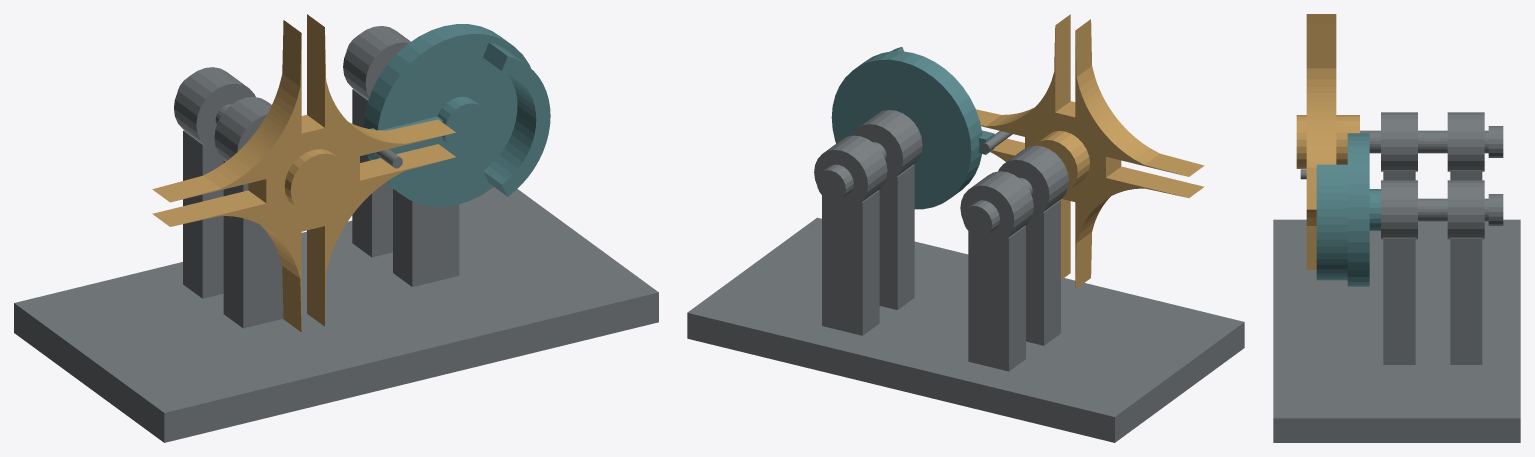
The picture shows the model from 3 angles, left to right: view 1: azimuth 30°, elevation 25°; view 2: azimuth 150°, elevation 25°; view 3: azimuth 270°, elevation 25°; orthographic projection. The views are drawn at different scales.
Visible parts, largest first — view 1: WholeGroundBed, WholeFourSlotConcaveIndexWheel, WholeOffsetDriverDisc, IndexNearWholePedestal, DriverNearWholePedestal, WholeInterruptedLockingSector, IndexRearWholePedestal, IndexRearWholeBoredBearing, WholeIndexWheelCentralHub, DriverRearWholePedestal, DriverRearWholeBoredBearing, IndexNearWholeBoredBearing (+1 smaller); view 2: WholeGroundBed, WholeFourSlotConcaveIndexWheel, WholeOffsetDriverDisc, DriverRearWholePedestal, IndexRearWholePedestal, DriverNearWholePedestal, IndexNearWholePedestal, IndexRearWholeBoredBearing, DriverRearWholeBoredBearing, IndexNearWholeBoredBearing, DriverNearWholeBoredBearing, WholeIndexWheelCentralHub (+2 smaller); view 3: WholeGroundBed, WholeFourSlotConcaveIndexWheel, DriverNearWholePedestal, DriverRearWholePedestal, WholeInterruptedLockingSector, WholeOffsetDriverDisc, IndexRearWholeBoredBearing, DriverRearWholeBoredBearing, IndexNearWholeBoredBearing, DriverNearWholeBoredBearing, WholeIndexWheelCentralHub, IndexWholeFixedThroughShaft (+6 smaller).
Boxes of the visible parts, box(x1,y1,x2,y2) form: WholeGroundBed: box(14, 187, 658, 442); WholeFourSlotConcaveIndexWheel: box(152, 14, 455, 332); WholeOffsetDriverDisc: box(363, 24, 530, 206); IndexNearWholePedestal: box(223, 160, 283, 328); DriverNearWholePedestal: box(393, 189, 459, 286); WholeInterruptedLockingSector: box(483, 42, 550, 196); IndexRearWholePedestal: box(183, 130, 224, 298); IndexRearWholeBoredBearing: box(174, 67, 255, 149); WholeIndexWheelCentralHub: box(284, 149, 347, 214); DriverRearWholePedestal: box(352, 89, 392, 257); DriverRearWholeBoredBearing: box(343, 26, 410, 99); IndexNearWholeBoredBearing: box(214, 97, 271, 160); WholeGroundBed: box(687, 217, 1244, 442); WholeFourSlotConcaveIndexWheel: box(976, 14, 1204, 289); WholeOffsetDriverDisc: box(831, 51, 982, 209); DriverRearWholePedestal: box(822, 190, 879, 335); IndexRearWholePedestal: box(968, 226, 1025, 371); DriverNearWholePedestal: box(878, 164, 914, 309); IndexNearWholePedestal: box(1025, 200, 1060, 345); IndexRearWholeBoredBearing: box(960, 171, 1033, 243); DriverRearWholeBoredBearing: box(814, 135, 887, 207); IndexNearWholeBoredBearing: box(998, 145, 1068, 217); DriverNearWholeBoredBearing: box(851, 110, 922, 181); WholeIndexWheelCentralHub: box(1034, 131, 1089, 190); WholeGroundBed: box(1273, 219, 1520, 442); WholeFourSlotConcaveIndexWheel: box(1306, 14, 1336, 269); DriverNearWholePedestal: box(1383, 237, 1415, 364); DriverRearWholePedestal: box(1450, 237, 1482, 364); WholeInterruptedLockingSector: box(1316, 164, 1347, 280); WholeOffsetDriverDisc: box(1347, 133, 1369, 286); IndexRearWholeBoredBearing: box(1447, 112, 1484, 171); DriverRearWholeBoredBearing: box(1447, 180, 1484, 239); IndexNearWholeBoredBearing: box(1381, 112, 1417, 171); DriverNearWholeBoredBearing: box(1381, 180, 1417, 239); WholeIndexWheelCentralHub: box(1296, 115, 1359, 168); IndexWholeFixedThroughShaft: box(1360, 130, 1488, 153).
Size of the model in its own units: 1.9 by 1.31 by 1.
